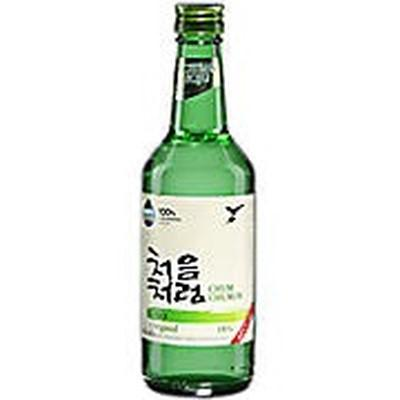soju: (133, 1, 262, 399)
